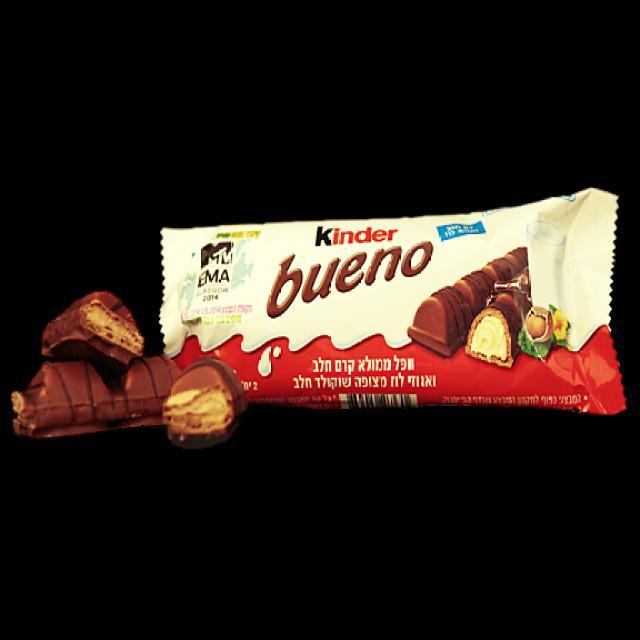Chocolate bar: (163, 185, 625, 423)
Chocolate bar packaged: (9, 357, 168, 441), (158, 353, 249, 441), (33, 291, 145, 362)
